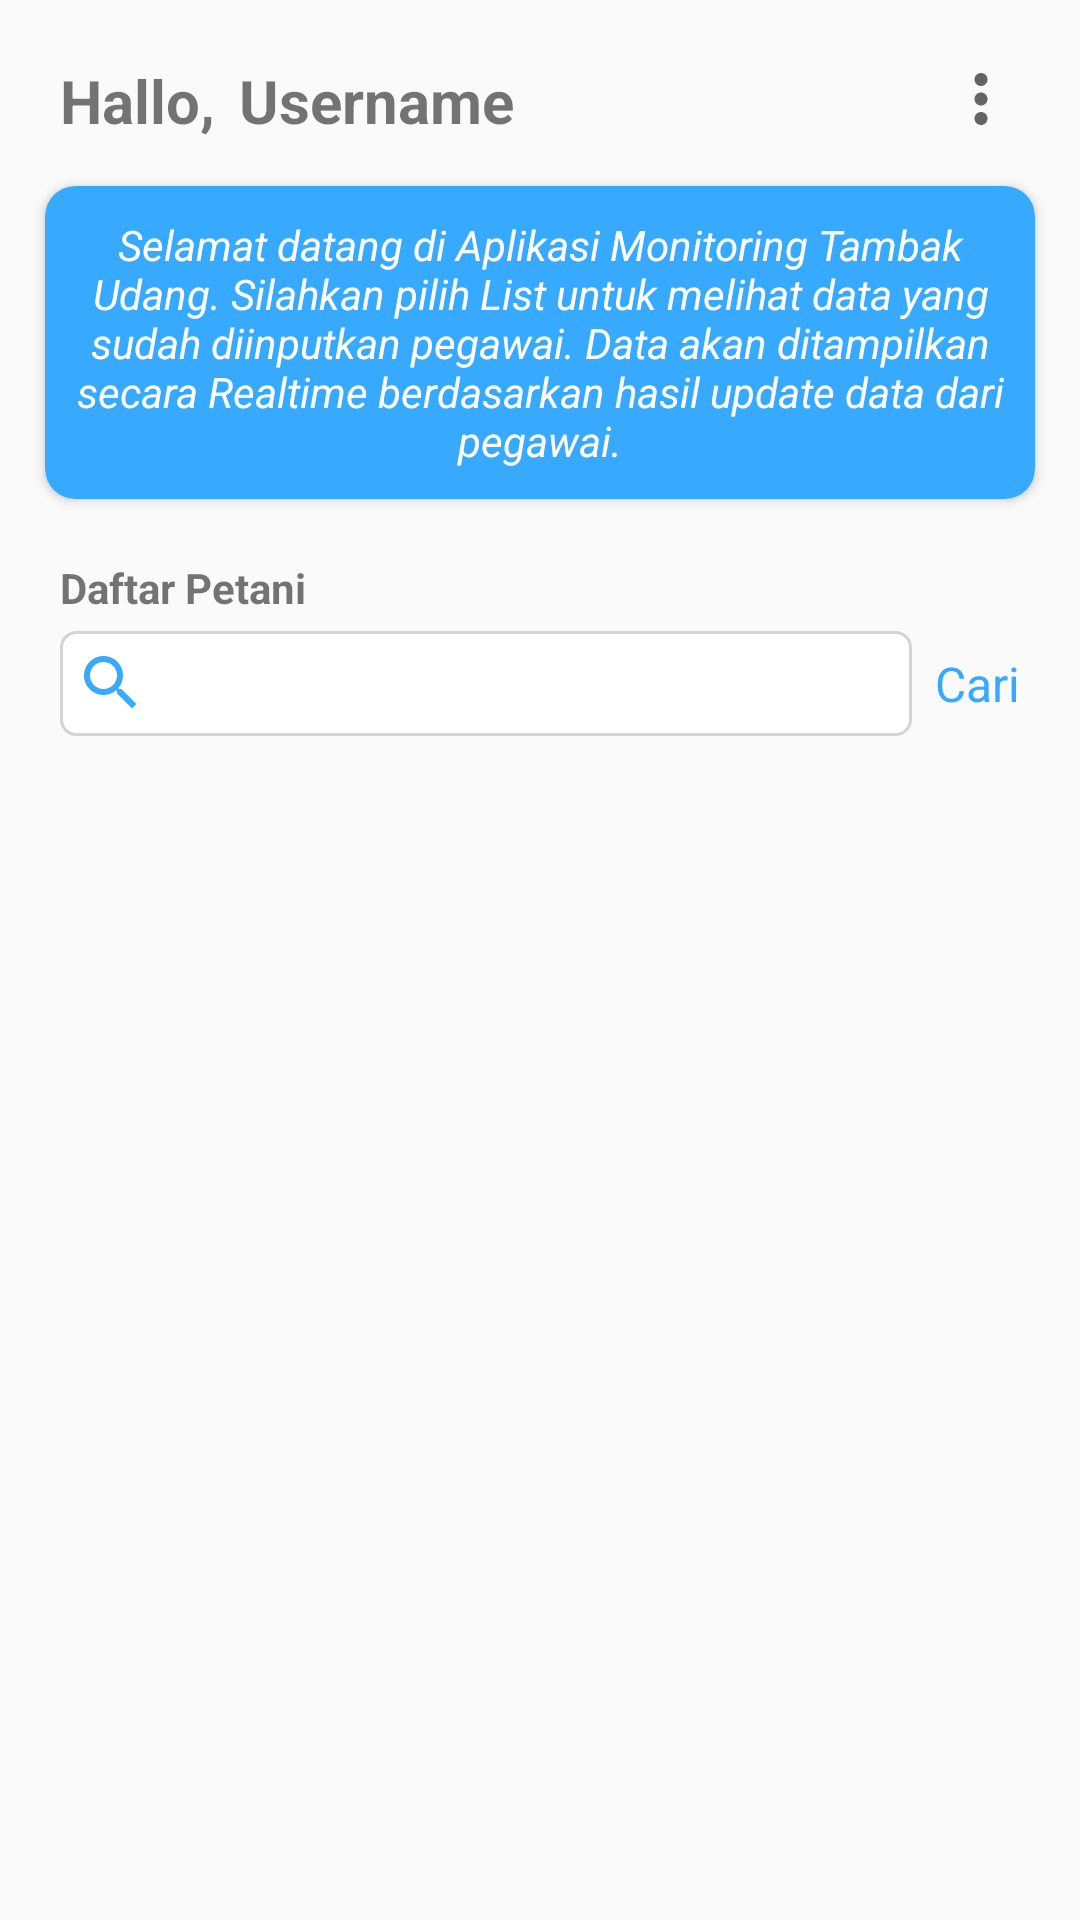

Screen size 1080px×1920px. Icon name, then its box in pixels as (x1, y1, x2, y2):
more vert: (974, 73, 988, 125)
